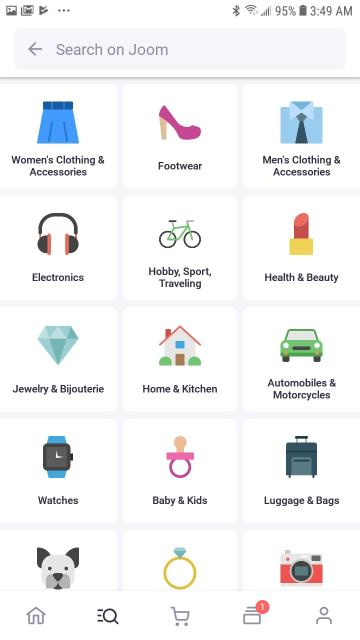Bottom_Navigation: (0, 590, 360, 640)
EditText: (14, 28, 346, 70)
Icon: (243, 600, 269, 624), (170, 606, 190, 626), (26, 606, 46, 624), (98, 608, 118, 624), (316, 606, 332, 624), (28, 42, 42, 56)
Image: (36, 102, 80, 144), (280, 101, 322, 143), (37, 547, 79, 589), (38, 213, 78, 255), (159, 325, 201, 365), (37, 326, 79, 364), (159, 104, 201, 140), (280, 550, 322, 586), (280, 328, 322, 362), (164, 547, 196, 589), (286, 436, 316, 478), (43, 436, 73, 478), (159, 220, 201, 248), (166, 436, 194, 478), (288, 213, 312, 255)
List: (0, 78, 360, 590)
Text: (12, 156, 105, 177), (263, 155, 341, 175), (267, 378, 335, 400), (149, 267, 211, 289), (56, 43, 168, 55), (13, 384, 103, 394), (264, 496, 340, 506), (265, 273, 339, 283), (143, 384, 217, 392), (153, 496, 207, 506), (33, 273, 84, 281), (158, 162, 202, 170), (38, 496, 78, 504)
TextImageButton: (243, 418, 360, 524), (244, 306, 360, 412), (0, 418, 116, 524), (0, 84, 118, 188), (0, 196, 118, 300), (0, 307, 118, 411), (243, 84, 360, 188), (243, 196, 360, 300), (123, 306, 237, 412), (123, 418, 237, 524), (124, 84, 236, 188), (124, 196, 236, 300)
UpperTaskBar: (0, 0, 360, 16)
